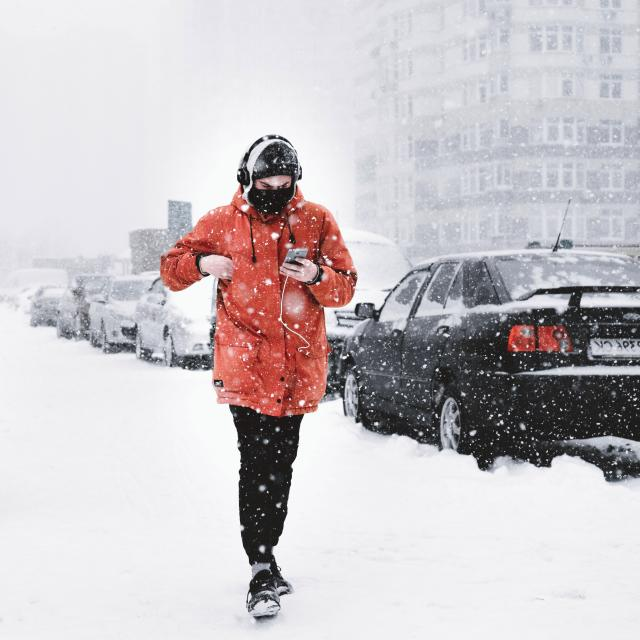adult: (159, 133, 358, 619)
